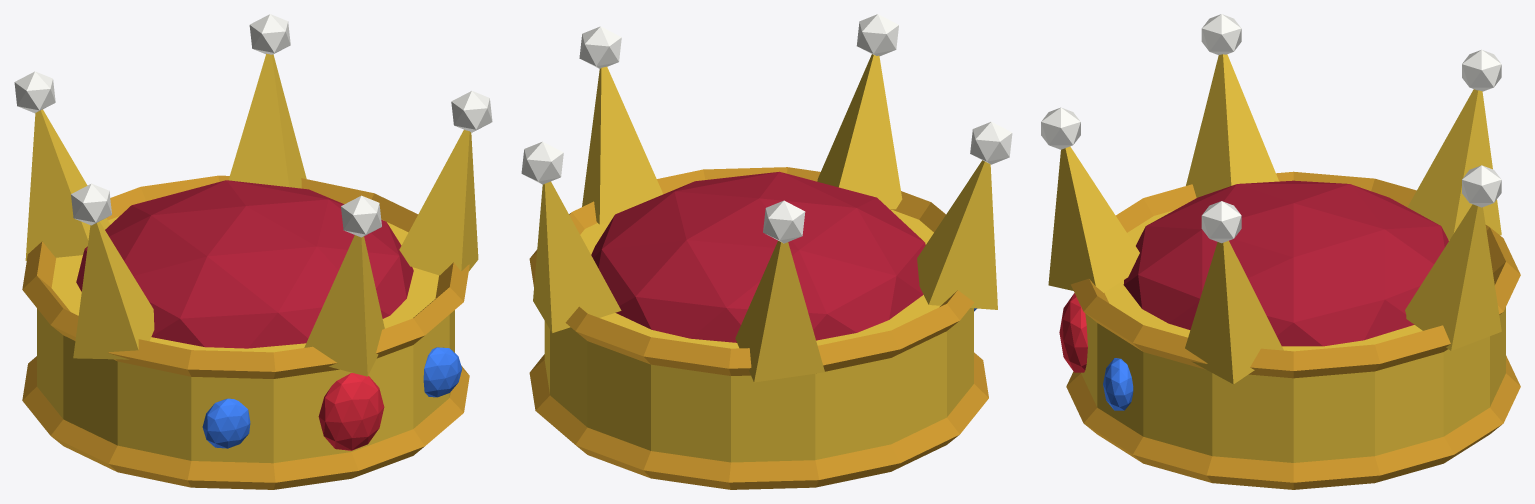
Rendered from BossCrown.fbx.
The picture shows the model from 3 angles, left to right: view 1: azimuth 30°, elevation 25°; view 2: azimuth 150°, elevation 25°; view 3: azimuth 270°, elevation 25°; orthographic projection. The views are drawn at different scales.
Visible parts, largest first — view 1: Velvet, Points, Band, Trim, Pearls, RedGem, BlueGem; view 2: Band, Velvet, Points, Trim, Pearls; view 3: Points, Band, Velvet, Trim, Pearls, RedGem, BlueGem.
Boxes of the visible parts, x1,y1,x2,y2 form: Velvet: (76,180,413,348); Points: (25,53,478,376); Band: (37,216,454,463); Trim: (22,175,469,489); Pearls: (14,14,492,237); RedGem: (318,373,384,450); BlueGem: (202,347,462,448); Band: (544,209,973,462); Velvet: (591,171,925,342); Points: (533,54,997,382); Trim: (529,167,988,489); Pearls: (521,14,1012,243); Points: (1048,54,1501,384); Band: (1081,210,1505,462); Velvet: (1123,180,1448,346); Trim: (1066,171,1520,489); Pearls: (1041,14,1501,243); RedGem: (1059,293,1087,372); BlueGem: (1103,358,1133,410).
Bounding box in the file's own units: 2.28 × 1.52 × 2.26.
